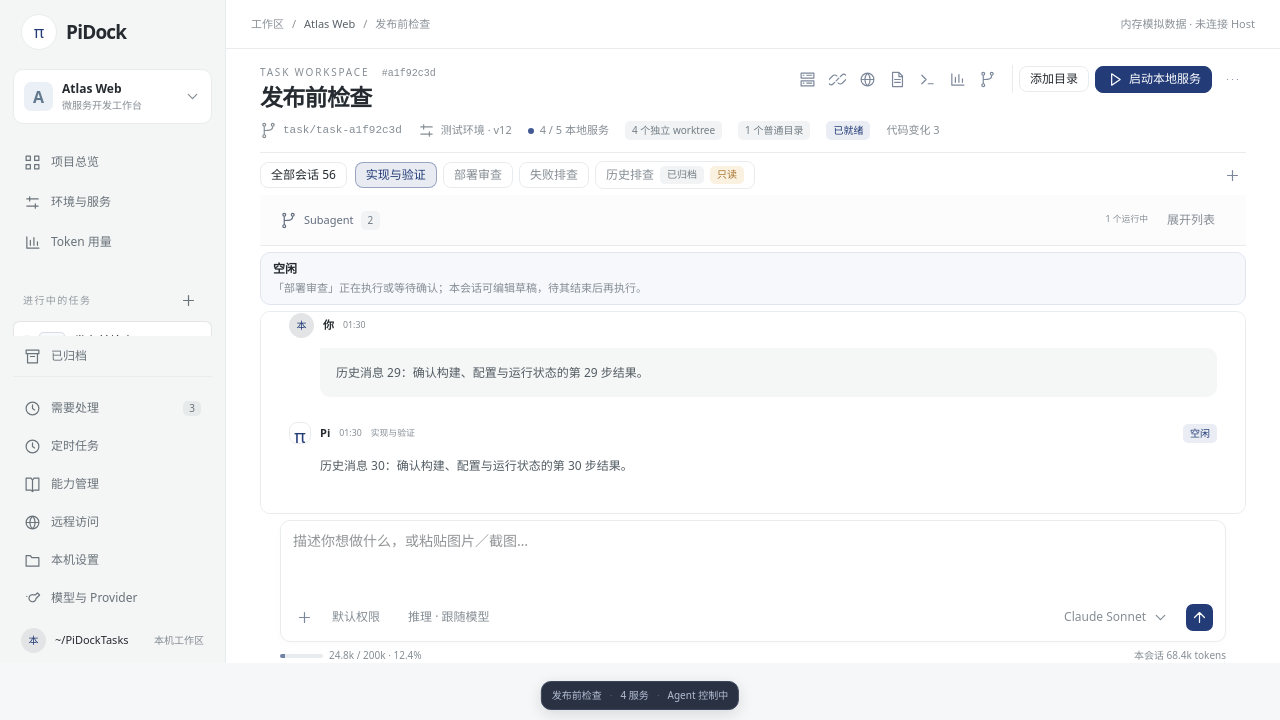
Scenario: task browser panel › states that the Agent will not drive the page in a read-only session
(page scrolled)
Expected: the heading "发布前检查" is shown, top-left (260, 81), bottom-right (372, 113)
Click the button with aria-label "选择权限：默认权限". click: coordinates (356, 617)
box: top-left (321, 604), bottom-right (391, 630)
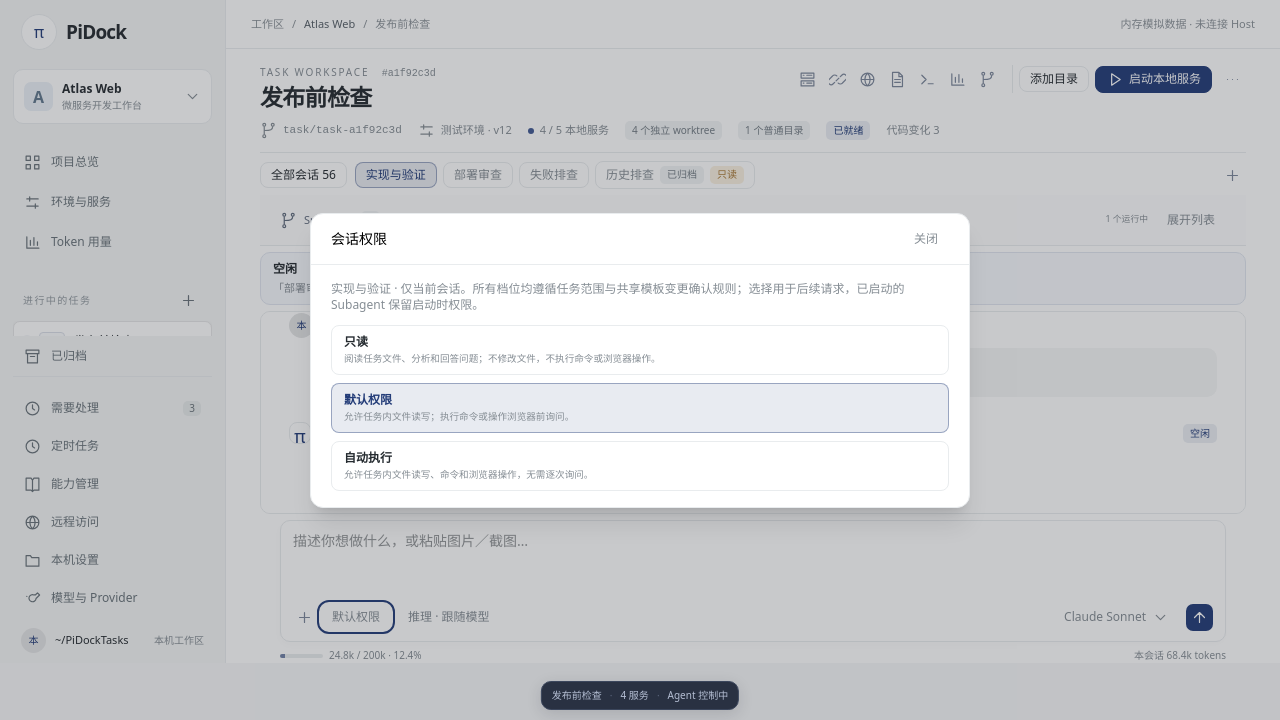
Click the button "只读 阅读任务文件、分析和回答问题；不修改文件，不执行命令或浏览器操作。". click: coordinates (640, 350)
box: top-left (331, 324), bottom-right (949, 374)
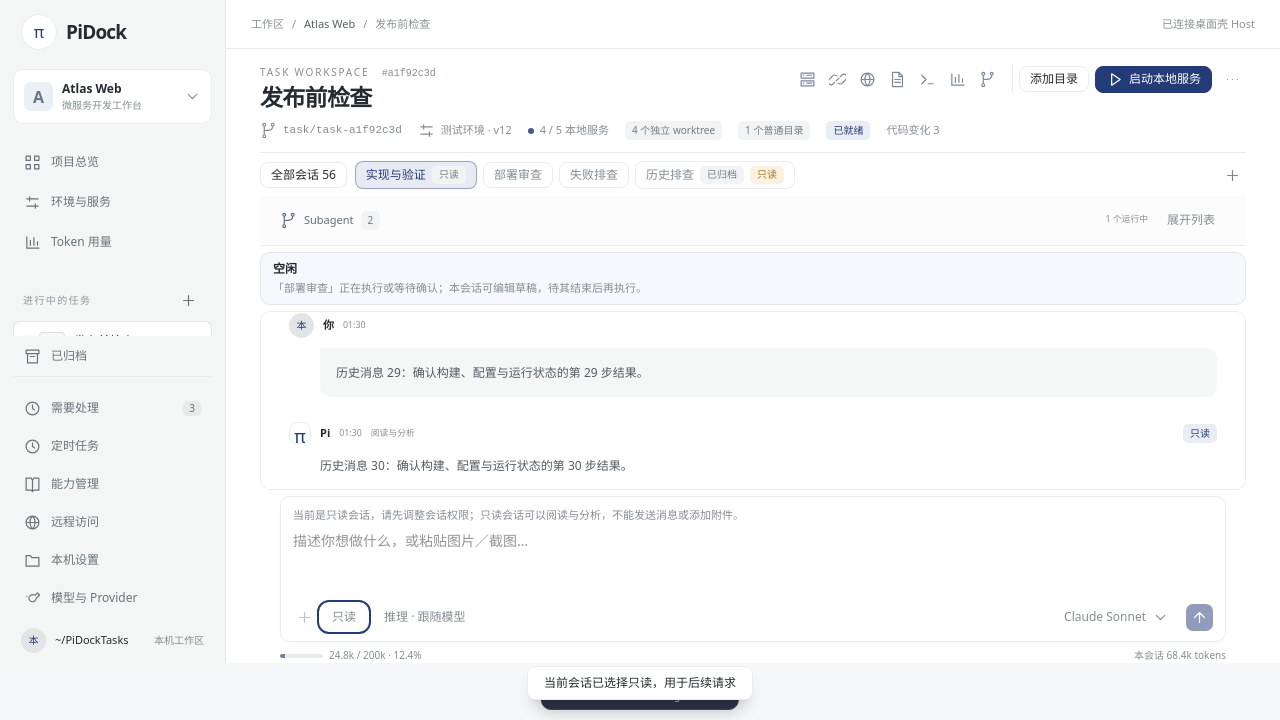
Click the button named "浏览器". click: coordinates (868, 79)
box: top-left (854, 65), bottom-right (882, 93)
(page scrolled)
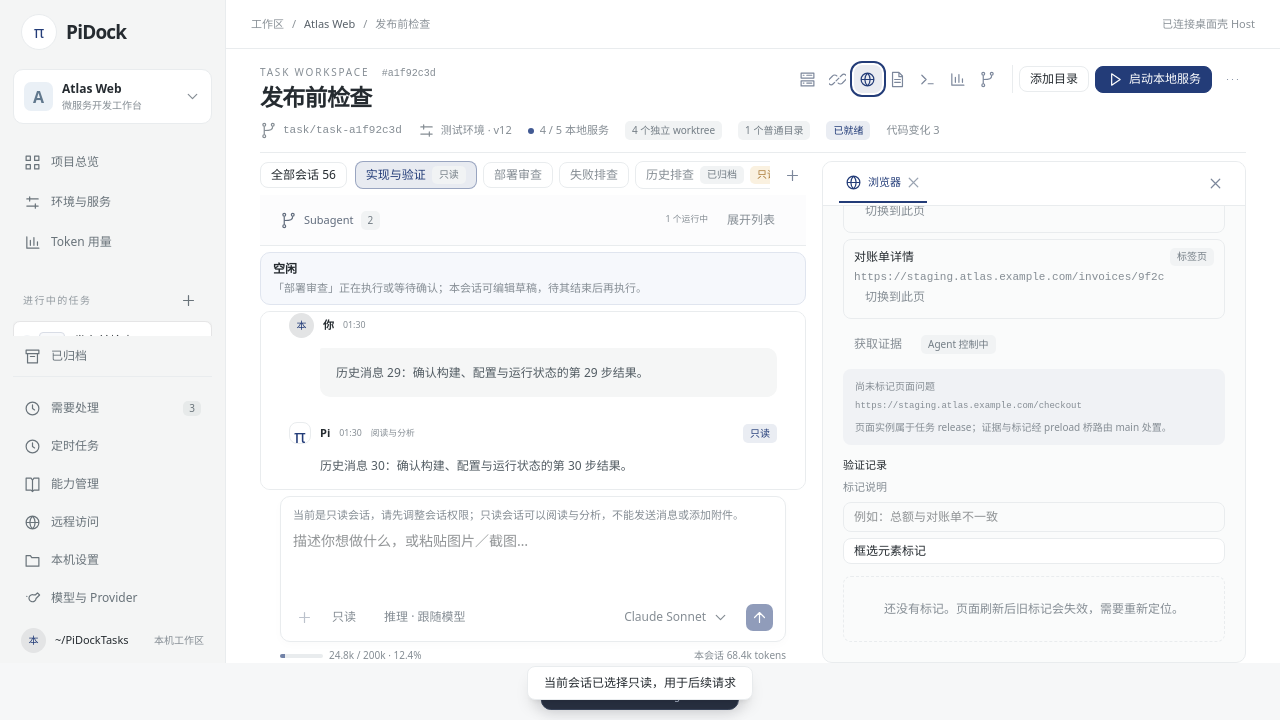
Expected: the button "框选元素标记" is shown, top-left (843, 538), bottom-right (1225, 564)
